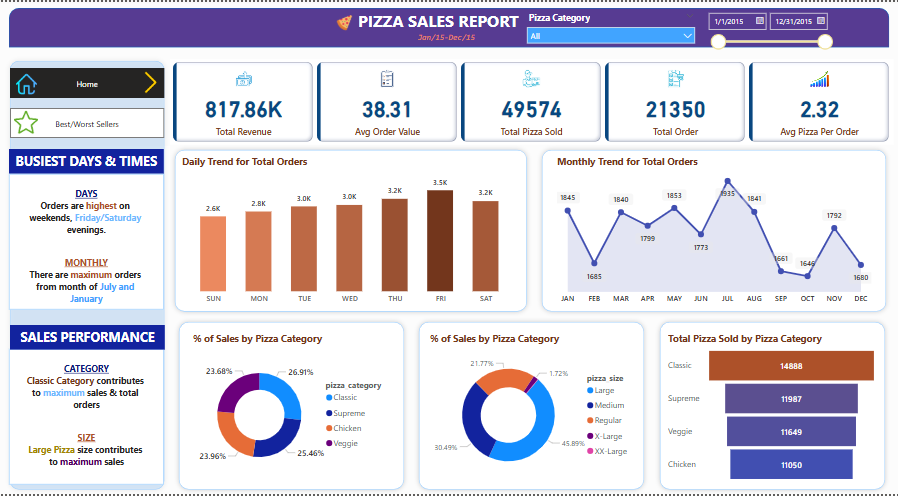

What the dashboard file says about the page in this screenshot:
{"tool":"powerbi","page":{"name":"Home","canvas":[1500,820],"ordinal":0},"visuals":[{"type":"cardVisual","fields":{"Data":["pizza_sales (2).Total_Revenue","pizza_sales (2).Avg Order Value","pizza_sales (2).Total Pizza Sold","pizza_sales (2).Total Order","pizza_sales (2).Avg Pizza Per Order"]},"box":[282.6,95.7,1205.8,143.5],"z":0},{"type":"shape","box":[15.7,10,1467.1,65.7],"z":1000},{"type":"textbox","box":[591.4,8.6,315.7,51.4],"z":2000},{"type":"textbox","box":[681.4,44.3,124.3,31.4],"z":3000},{"type":"image","box":[554.5,16.5,37,35.5],"z":4000},{"type":"shape","box":[282.9,238.6,602.9,285.7],"z":5000},{"type":"columnChart","title":"Daily Trend for Total Orders","fields":{"Category":["pizza_sales (2).Order Day"],"Y":["pizza_sales (2).Total Order"]},"box":[298.6,255.7,570,257.1],"z":6000},{"type":"shape","box":[894.3,238.6,590,285.7],"z":7000},{"type":"areaChart","title":"Monthly Trend for Total Orders","fields":{"Category":["pizza_sales (2).Order Month"],"Y":["pizza_sales (2).Total Order"]},"box":[922.9,255.7,534.3,257.1],"z":8000},{"type":"shape","box":[290,524.3,391.4,295.7],"z":9000},{"type":"shape","box":[690,524.3,391.4,295.7],"z":10000},{"type":"shape","box":[1091.4,524.3,391.4,295.7],"z":11000},{"type":"donutChart","title":"% of Sales by Pizza Category","fields":{"Category":["pizza_sales (2).pizza_category"],"Y":["pizza_sales (2).Total Revenue"]},"box":[317.1,550,340,255.7],"z":12000},{"type":"donutChart","title":"% of Sales by Pizza Category","fields":{"Category":["pizza_sales (2).pizza_size"],"Y":["pizza_sales (2).Total Revenue"]},"box":[711.4,550,351.4,255.7],"z":13000},{"type":"funnel","title":"Total Pizza Sold by Pizza Category","fields":{"Y":["pizza_sales (2).Total Pizza Sold"],"Category":["pizza_sales (2).pizza_category"]},"box":[1108.2,550,358.2,255.5],"z":14000},{"type":"textbox","box":[24.6,240,257.7,40],"z":15000},{"type":"shape","box":[8.5,89.2,273.8,730.8],"z":16000},{"type":"textbox","box":[15.4,245.4,257.7,40.8],"z":17000},{"type":"textbox","box":[15.4,286.2,257.7,226.2],"z":18000},{"type":"textbox","box":[15,579,258,226],"z":19000},{"type":"textbox","box":[16,538,258,41],"z":20000},{"type":"slicer","fields":{"Values":["pizza_sales (2).pizza_category"]},"box":[868.8,10,300,66.2],"z":21000},{"type":"slicer","fields":{"Values":["pizza_sales (2).order_date"]},"box":[1167.5,8.8,227.5,80],"z":22000},{"type":"pageNavigator","box":[16.2,110,257.5,50],"z":22001},{"type":"pageNavigator","box":[16.7,176.7,257.8,50],"z":22002},{"type":"image","box":[228.6,110.7,45.7,47.9],"z":22003},{"type":"image","box":[18.2,173.6,50,54.5],"z":22004},{"type":"image","box":[20.9,112.7,45.5,47.3],"z":22005}]}

Visuals, with their boxes in screenshot pixels (x1, y1, x2, y2), scaled from the page's 1500x820 canvas onto the 898x496 screenshot:
cardVisual - pizza_sales (2).Total_Revenue x pizza_sales (2).Avg Order Value: [left=169, top=58, right=891, bottom=145]
shape: [left=9, top=6, right=888, bottom=46]
textbox: [left=354, top=5, right=543, bottom=36]
textbox: [left=408, top=27, right=482, bottom=46]
image: [left=332, top=10, right=354, bottom=31]
shape: [left=169, top=144, right=530, bottom=317]
"Daily Trend for Total Orders" columnChart: [left=179, top=155, right=520, bottom=310]
shape: [left=535, top=144, right=889, bottom=317]
"Monthly Trend for Total Orders" areaChart: [left=553, top=155, right=872, bottom=310]
shape: [left=174, top=317, right=408, bottom=495]
shape: [left=413, top=317, right=647, bottom=495]
shape: [left=653, top=317, right=888, bottom=495]
"% of Sales by Pizza Category" donutChart: [left=190, top=333, right=393, bottom=487]
"% of Sales by Pizza Category" donutChart: [left=426, top=333, right=636, bottom=487]
"Total Pizza Sold by Pizza Category" funnel: [left=663, top=333, right=878, bottom=487]
textbox: [left=15, top=145, right=169, bottom=169]
shape: [left=5, top=54, right=169, bottom=495]
textbox: [left=9, top=148, right=163, bottom=173]
textbox: [left=9, top=173, right=163, bottom=310]
textbox: [left=9, top=350, right=163, bottom=487]
textbox: [left=10, top=325, right=164, bottom=350]
slicer - pizza_sales (2).pizza_category: [left=520, top=6, right=700, bottom=46]
slicer - pizza_sales (2).order_date: [left=699, top=5, right=835, bottom=54]
pageNavigator: [left=10, top=67, right=164, bottom=97]
pageNavigator: [left=10, top=107, right=164, bottom=137]
image: [left=137, top=67, right=164, bottom=96]
image: [left=11, top=105, right=41, bottom=138]
image: [left=13, top=68, right=40, bottom=97]
